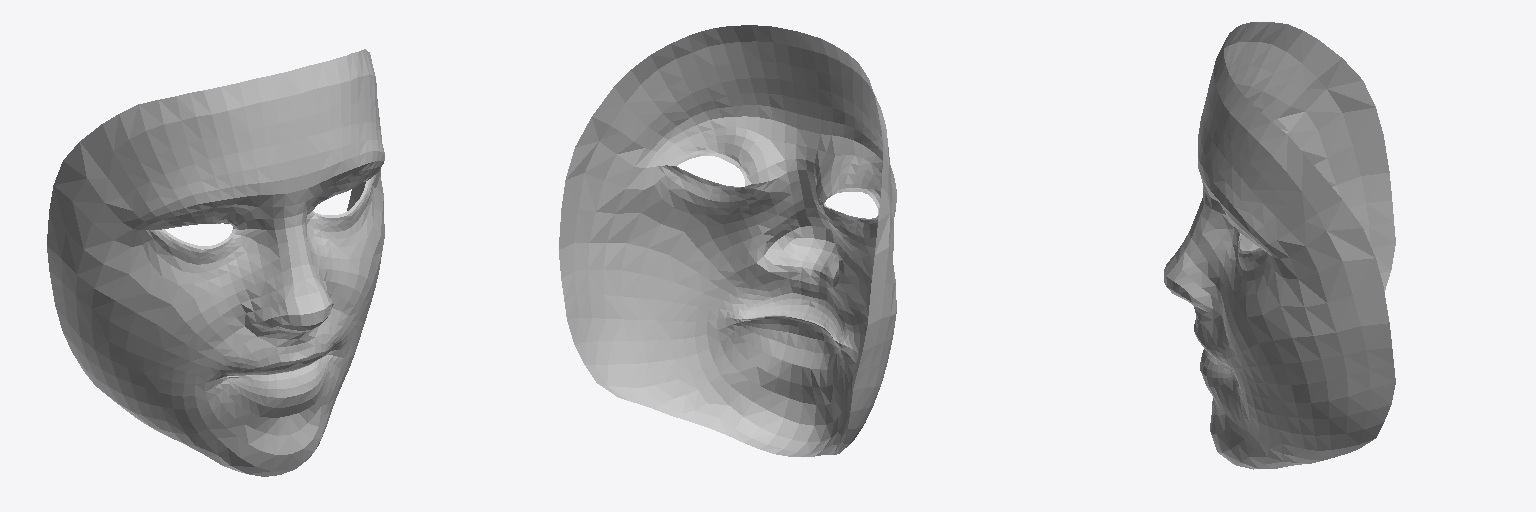
File: god.obj
3 renders of one model, left to right at view 1: azimuth 30°, elevation 25°; view 2: azimuth 150°, elevation 25°; view 3: azimuth 270°, elevation 25°, orthographic.
Parts seen in each view (by area): view 1: mesh_0; view 2: mesh_0; view 3: mesh_0.
Boxes of the visible parts, x1=… form: mesh_0: x1=47, y1=49, x2=384, y2=476; mesh_0: x1=559, y1=25, x2=896, y2=456; mesh_0: x1=1164, y1=22, x2=1395, y2=469.
Bounding box in the file's own units: 15.24 × 19.19 × 9.87.